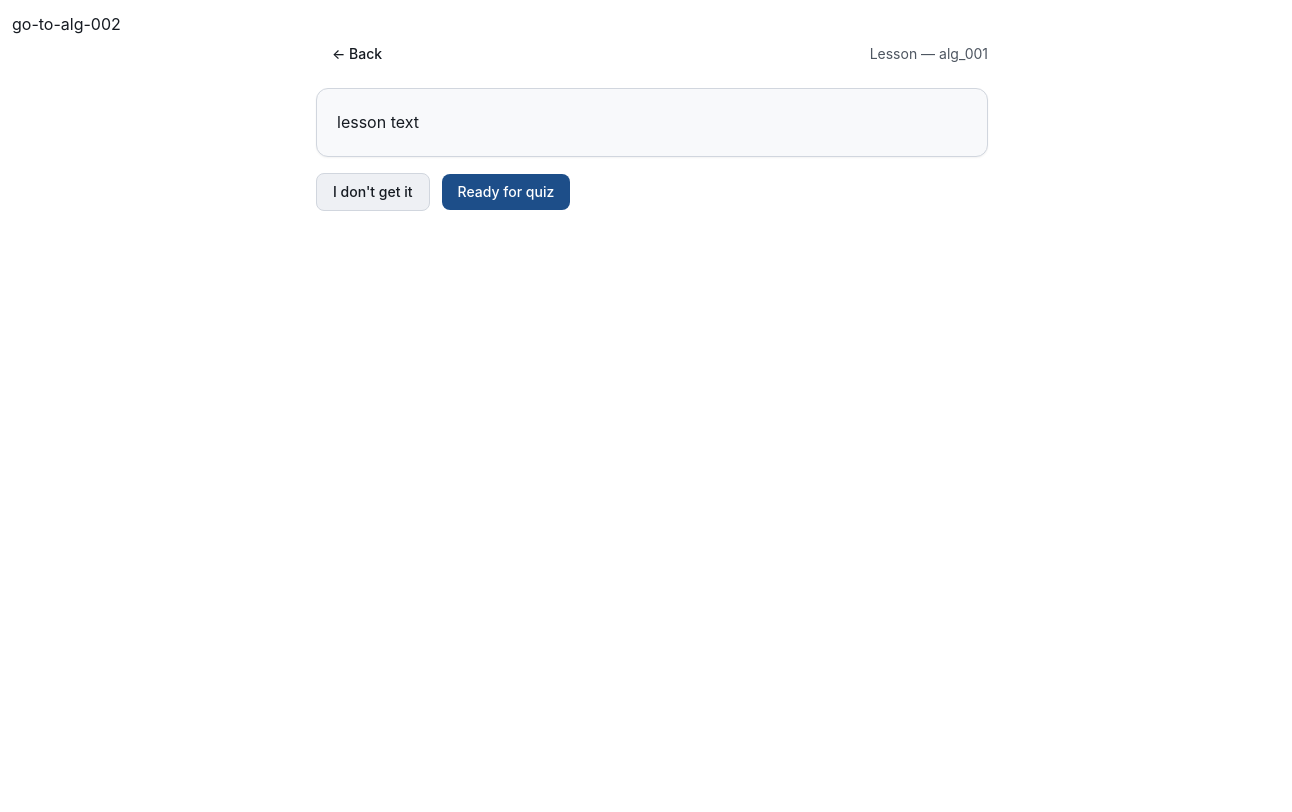
Test: LessonPage flow hardening (WP3) › navigates to the quiz even when awardLessonXp fails (non-blocking toast)
Click the button "Ready for quiz" at (506, 192), box [442,174,570,210]
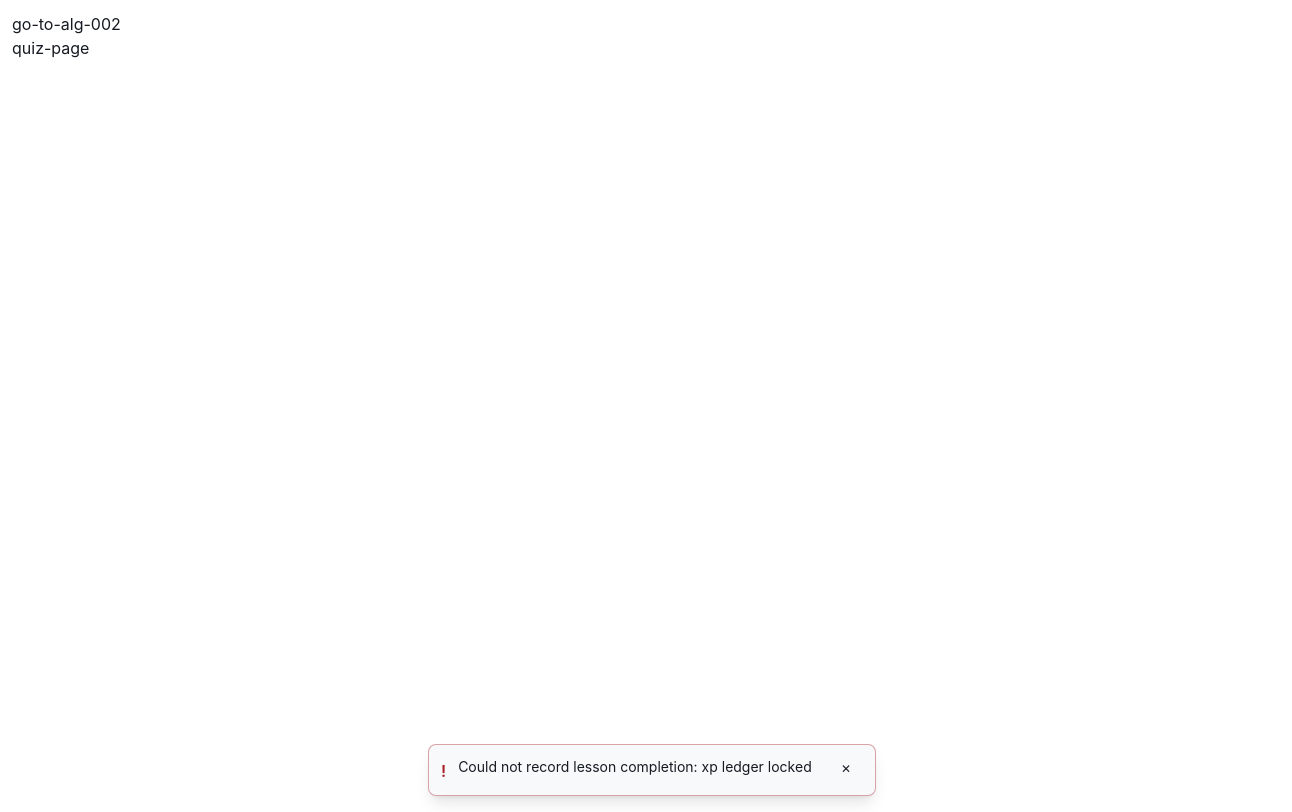
Expected: the text "quiz-page" is shown, [12,38,89,58]
Expected: the text "Could not record lesson completion: xp ledger locked" is shown, [458,757,817,777]
